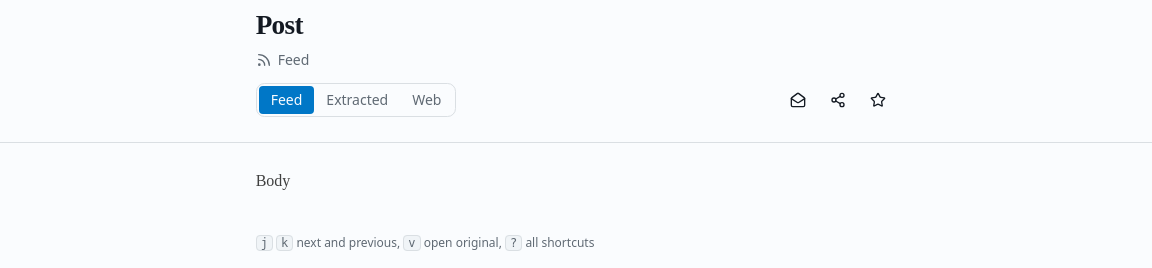
Mark unread on the open article keeps it unread while it stays open
This screenshot has width=1152, height=268.
Marked read on open.
Click the button named "Mark unread": coordinates (798, 100) [780,82,816,118]
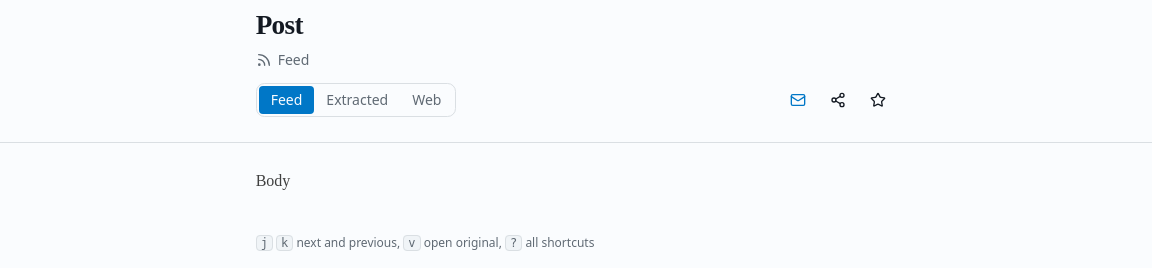
Result: the button named "Mark read" is shown at [780,82,816,118]
